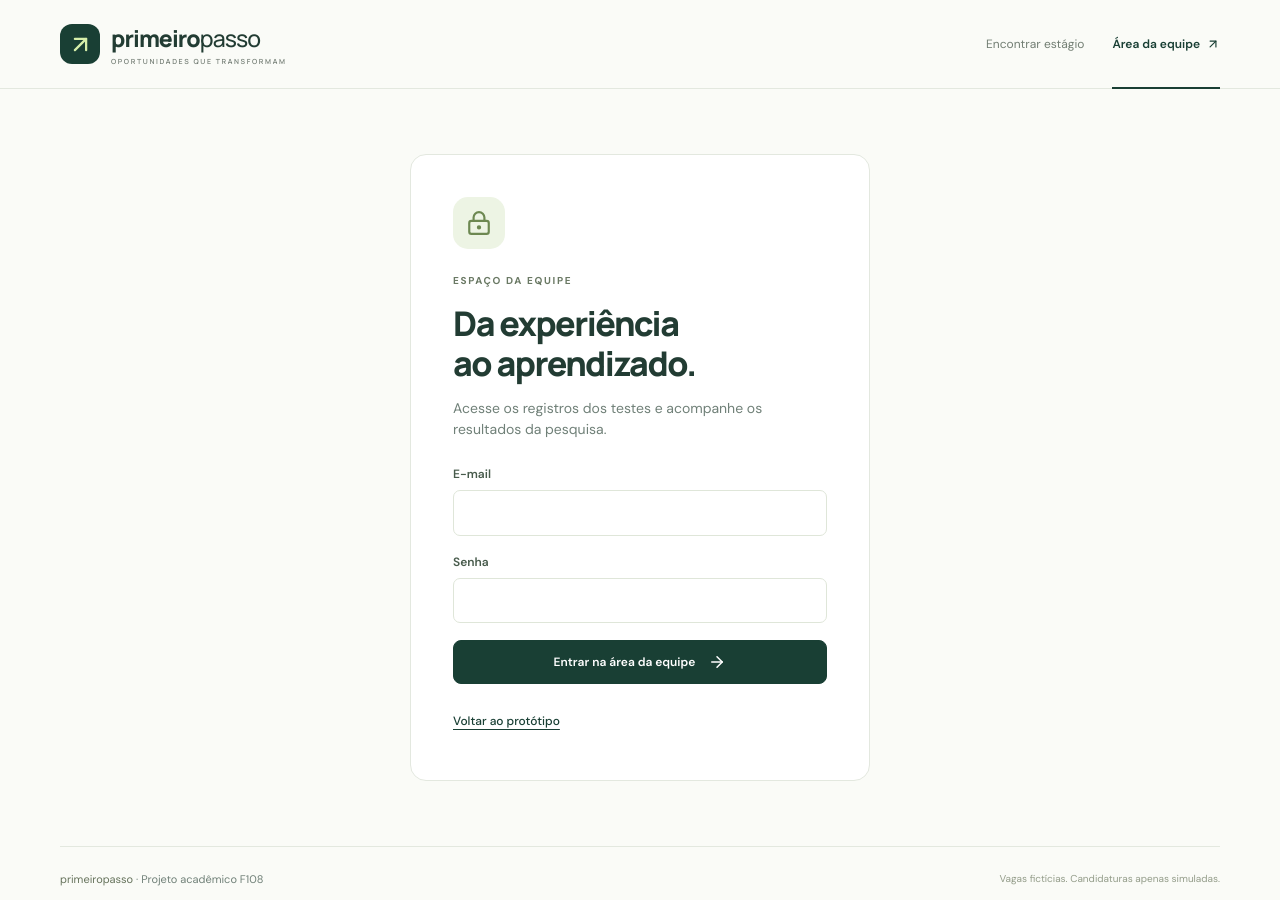
Test: impede que conta sem permissão veja resultados
Step 1. Type "teste@example.com" into the field labelled "E-mail" → point(640, 513), box [453,490,827,536]
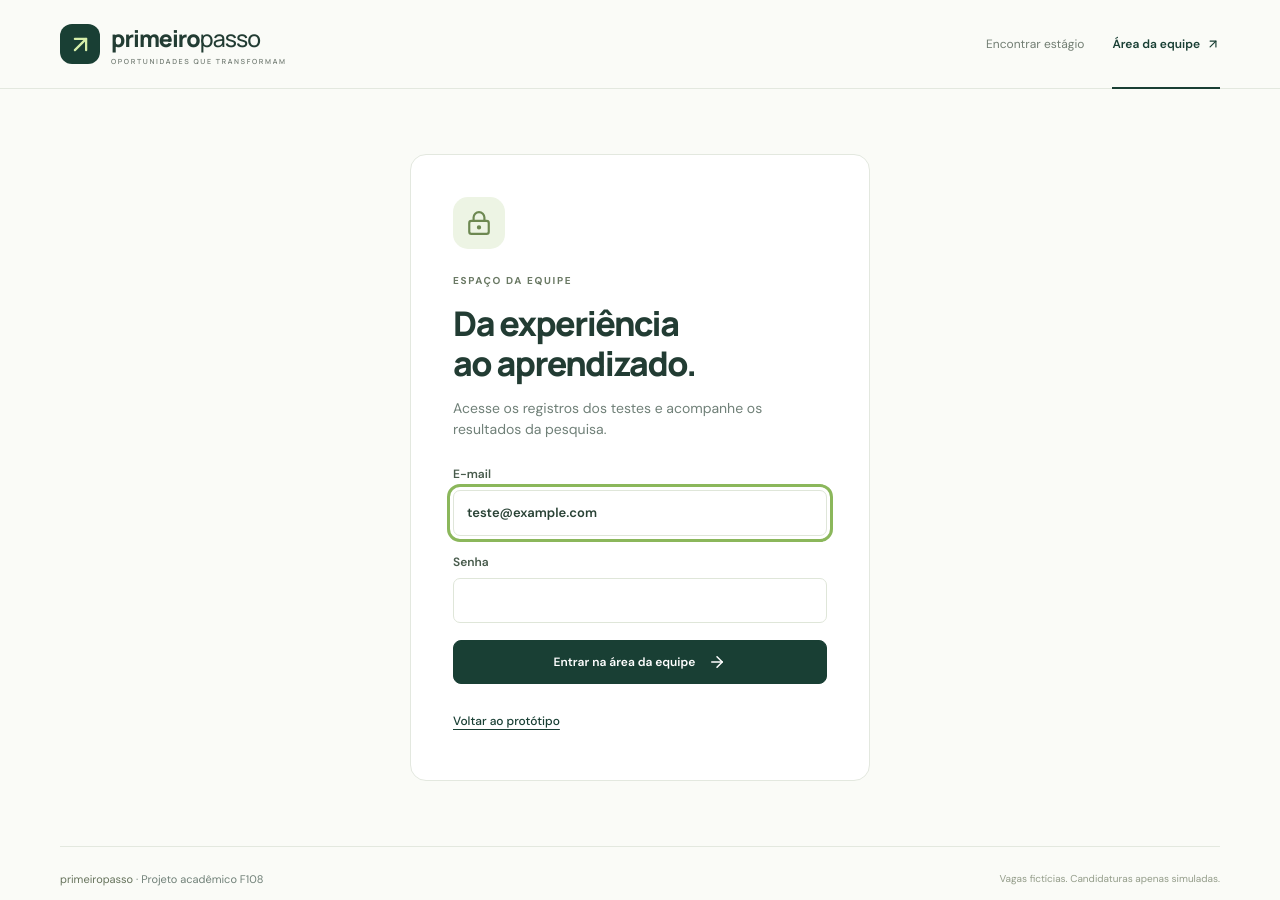
Step 2. Type "12345678" into the password field labelled "Senha" → point(640, 600), box [453,578,827,623]
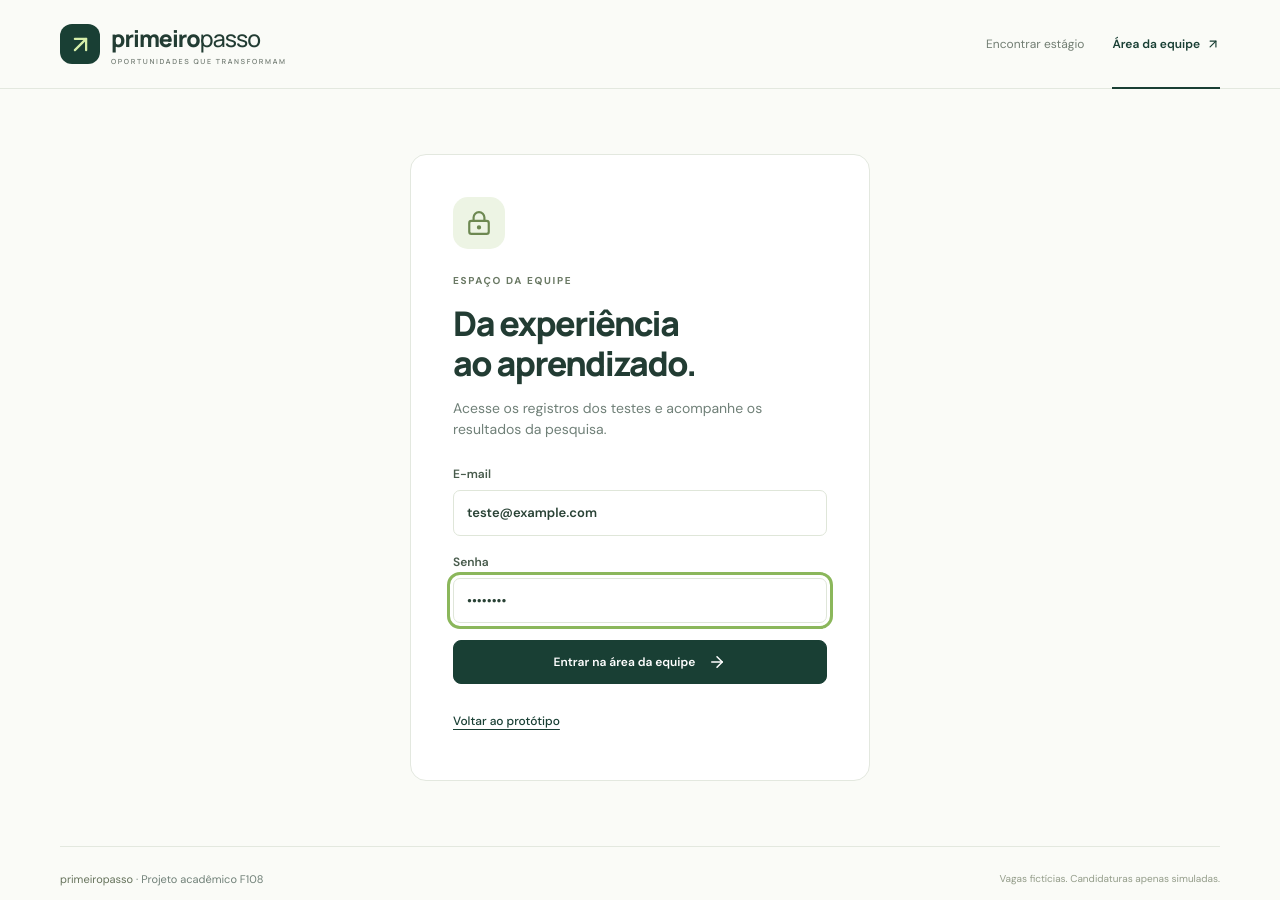
Step 3. Click the button "Entrar na área da equipe" → point(640, 662), box [453,640,827,684]
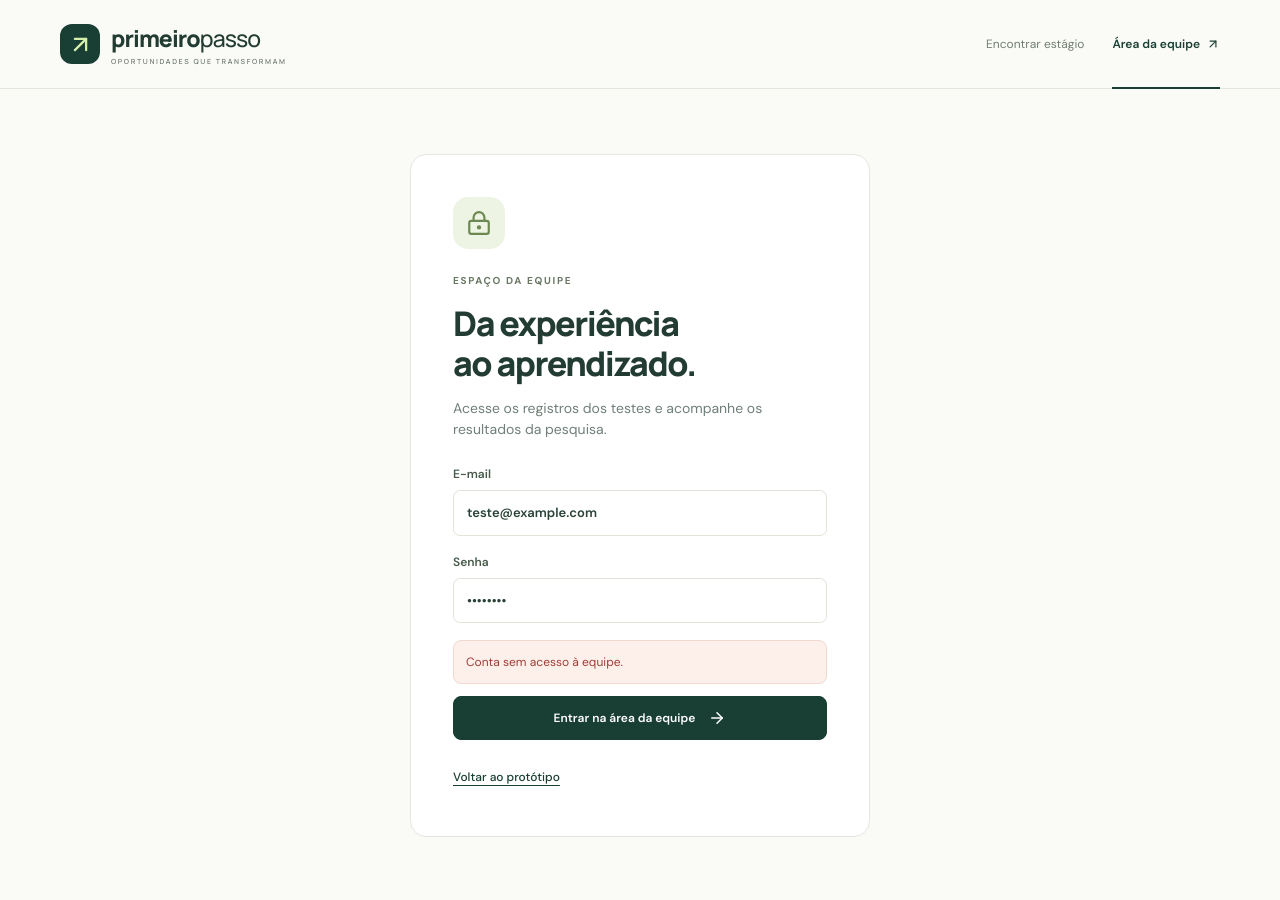
expect the text "Conta sem acesso à equipe." is shown: met, box [453,640,827,684]
